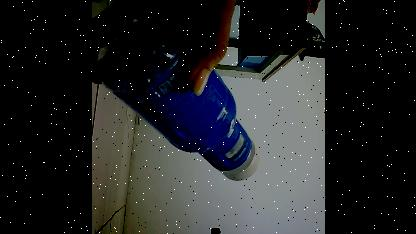Plastic Bottle: (91, 0, 273, 188)
